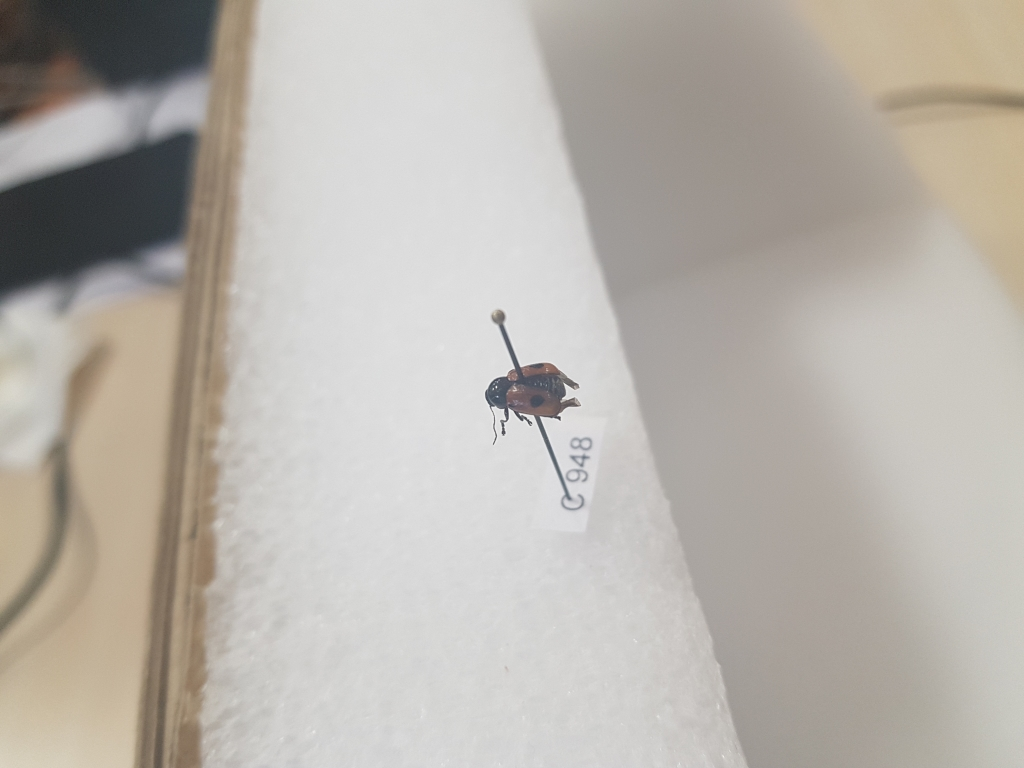Cryptocephalus_bipunctatus: (484, 355, 582, 445)
